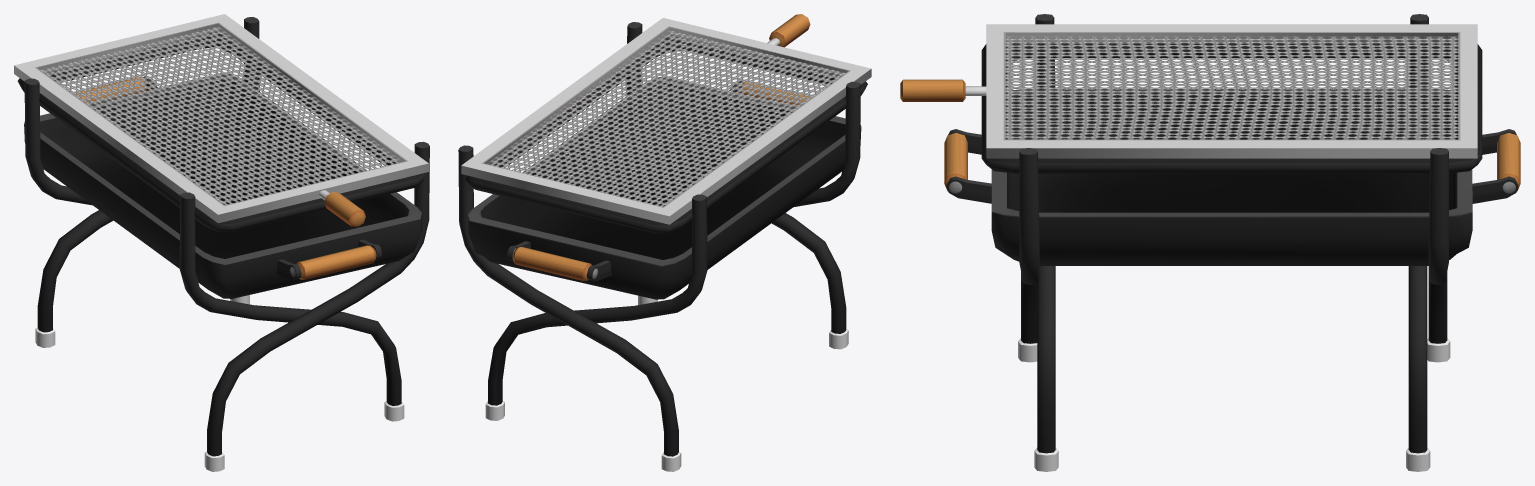
Rendered from ChurrasqueiraQuadrada.fbx.
3 views of the same model, side by side, from view 1: azimuth 30°, elevation 25°; view 2: azimuth 150°, elevation 25°; view 3: azimuth 270°, elevation 25° (orthographic). The views are drawn at different scales.
Parts seen in each view (by area): view 1: Plane.002; view 2: Plane.002; view 3: Plane.002.
Boxes of the visible parts, left/top/right/bottom form: Plane.002: left=14, top=14, right=429, bottom=471; Plane.002: left=458, top=14, right=871, bottom=471; Plane.002: left=900, top=14, right=1520, bottom=471.
Bounding box in the file's own units: 471 × 514 × 876.
1 material, 1 textured.
